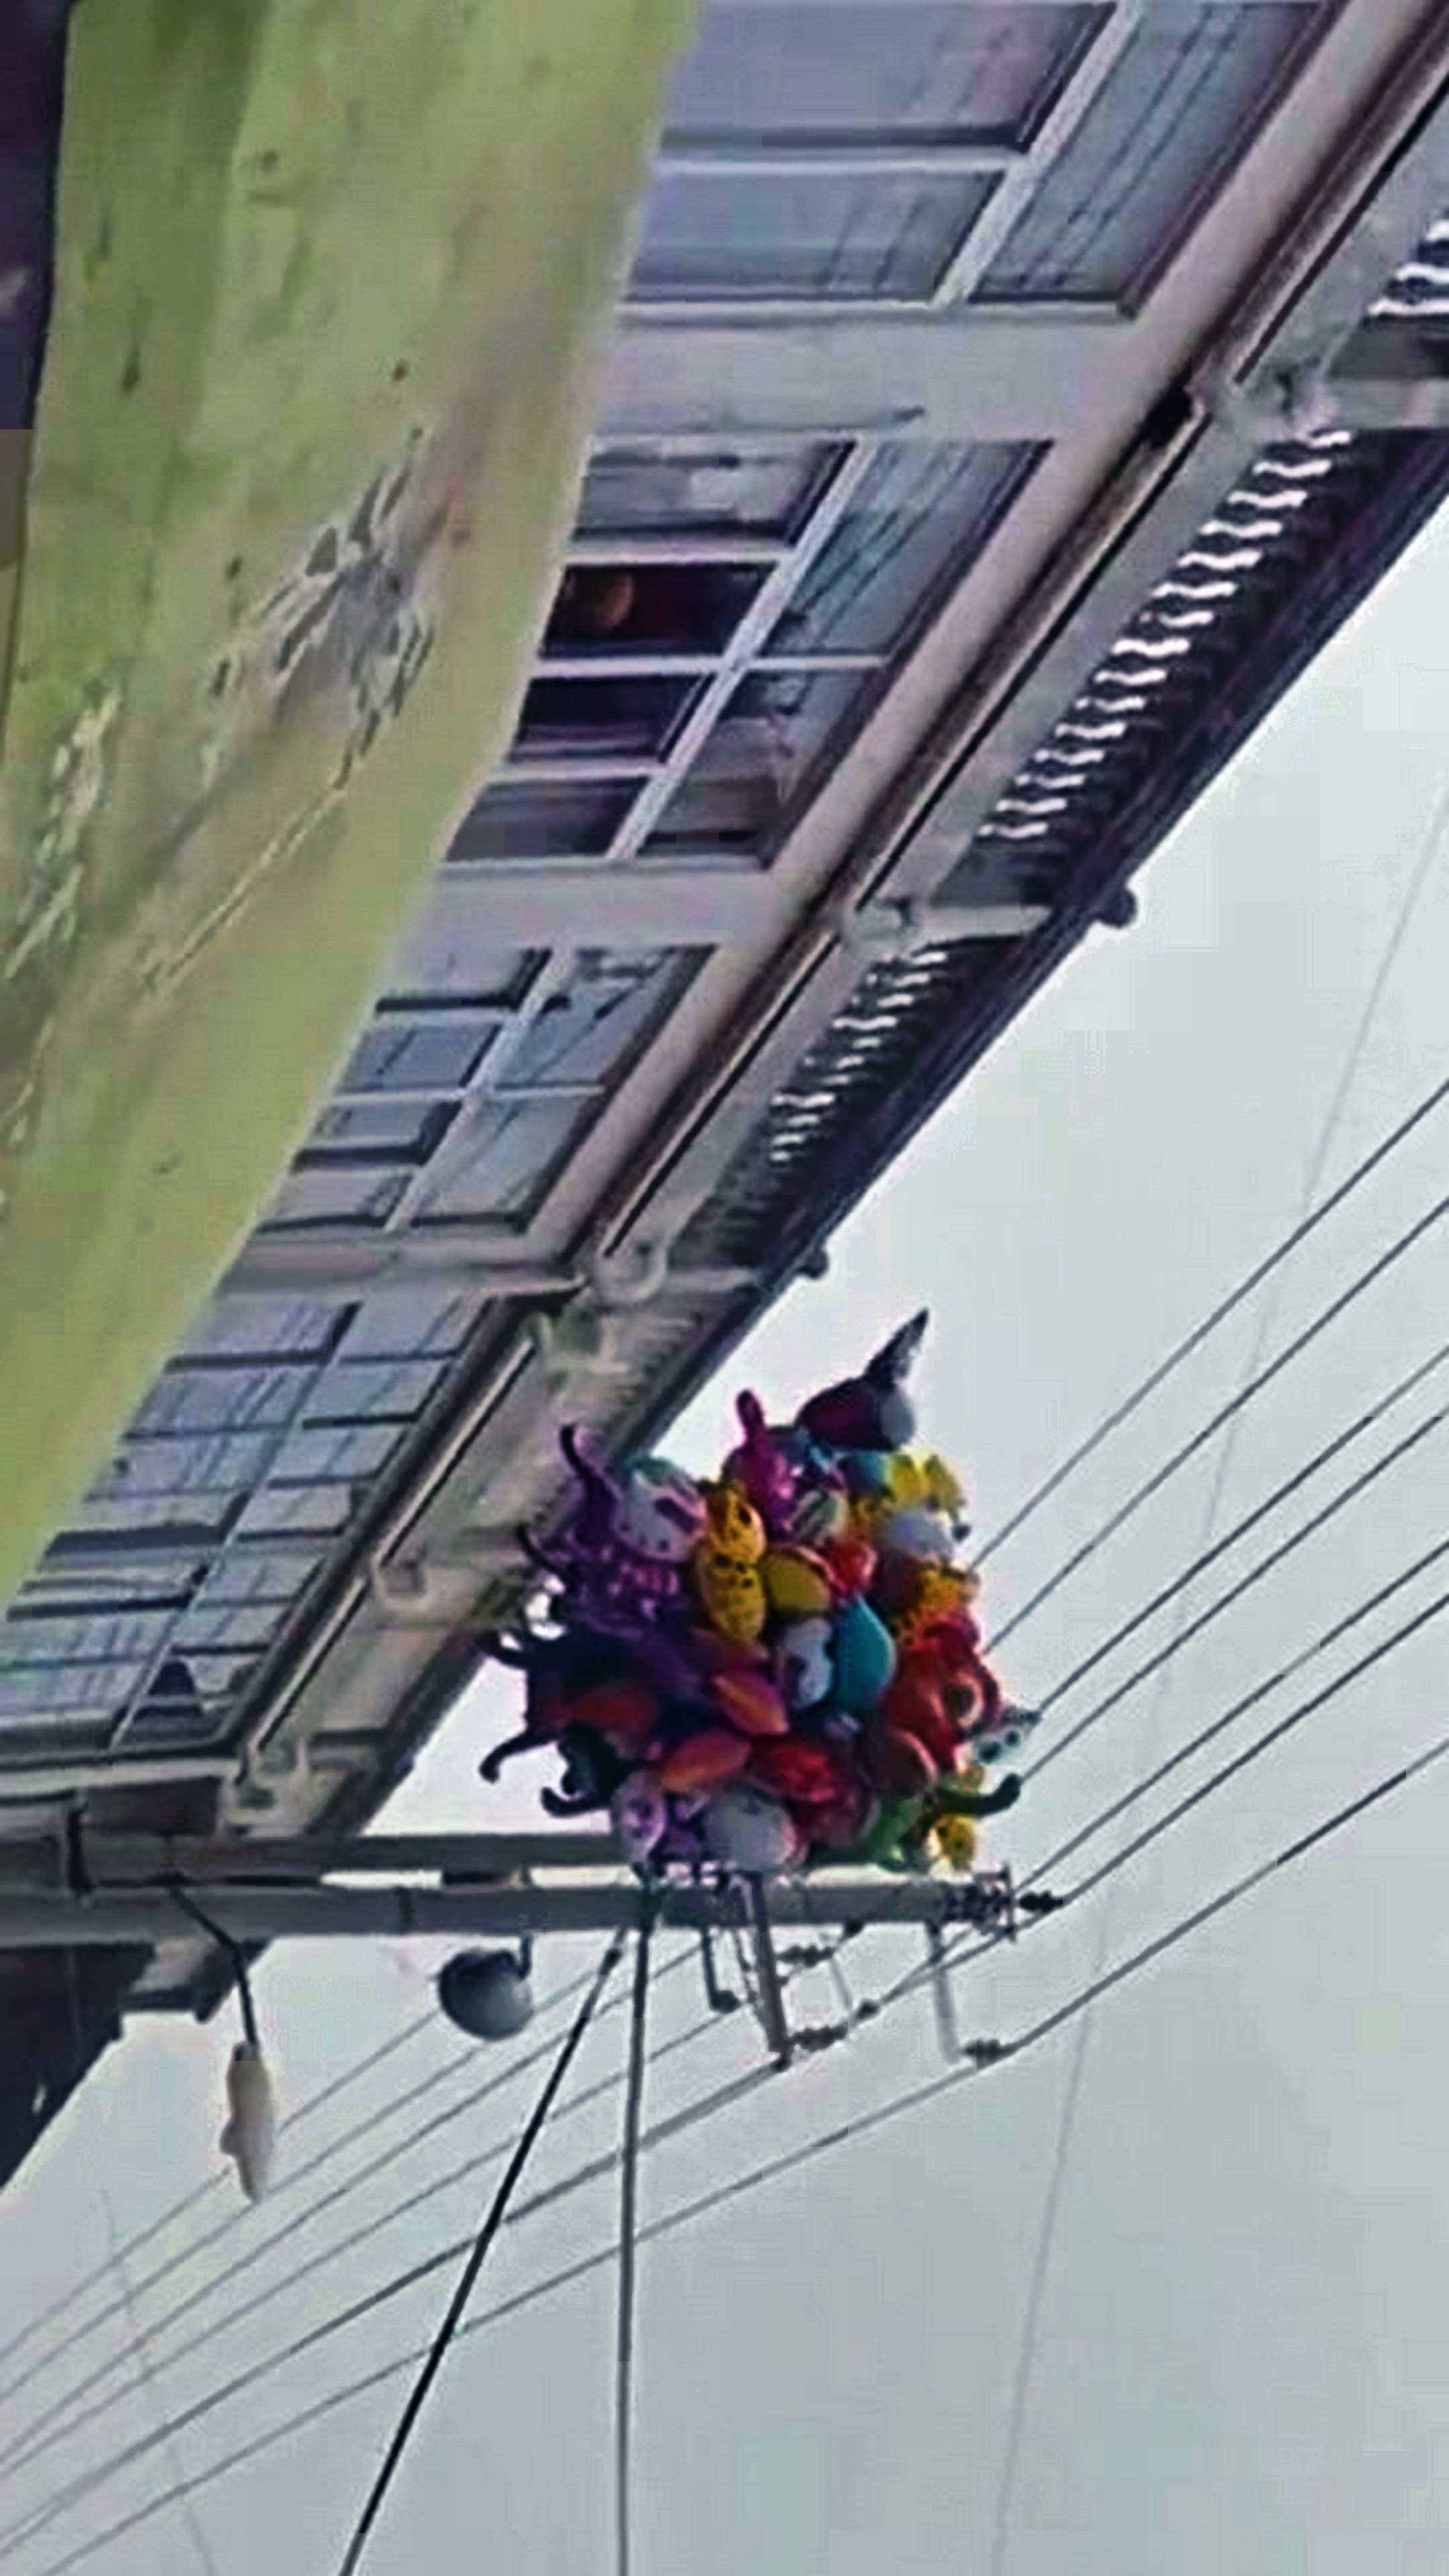wire foreign body: (476, 1307, 1079, 1928)
